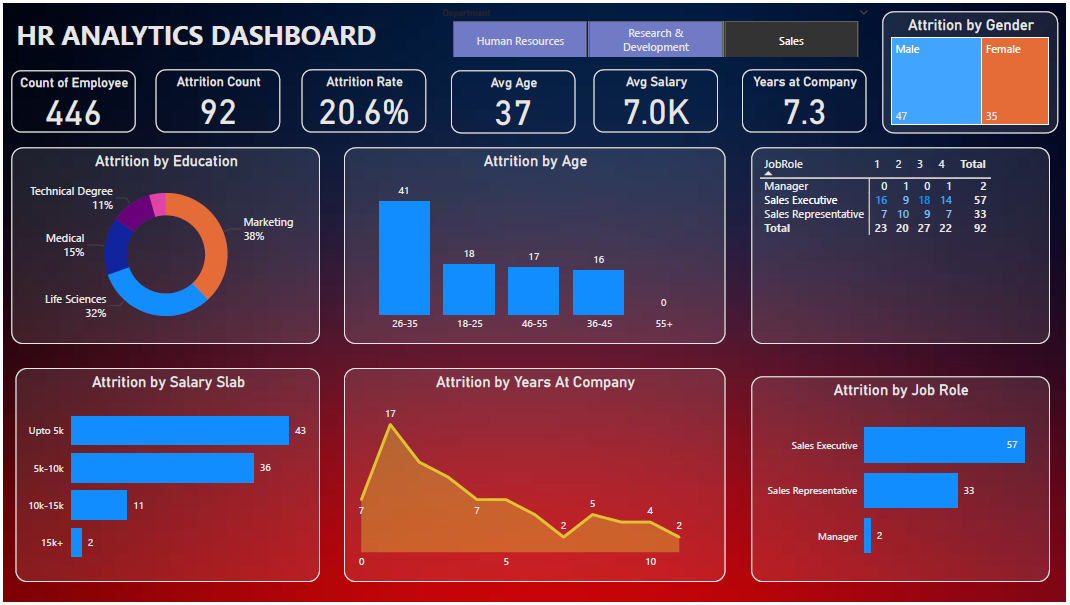

The page's visual inventory and layout, read from the dashboard file:
{"tool":"powerbi","page":{"name":"Page 1","canvas":[1280,720],"ordinal":0},"visuals":[{"type":"textbox","box":[10,8.6,455.7,54.3],"z":0},{"type":"card","title":"Count of Employee","fields":{"Values":["CountNonNull(HR_Analytics.EmpID)"]},"box":[8.6,80.4,150,75],"z":1000},{"type":"card","title":"Avg Salary","fields":{"Values":["Avg(HR_Analytics.MonthlyIncome)"]},"box":[711.4,78.9,150,75.7],"z":2000},{"type":"card","title":"Avg Age","fields":{"Values":["Avg(HR_Analytics.Age)"]},"box":[538.6,80.4,150,75.7],"z":3000},{"type":"card","title":"Attrition Rate","fields":{"Values":["HR_Analytics.AttrtionRate"]},"box":[358.6,78.9,150,75.7],"z":4000},{"type":"card","title":"Attrition Count","fields":{"Values":["Sum(HR_Analytics.AttritionCount)"]},"box":[182.9,78.9,150,75.7],"z":5000},{"type":"card","title":"Years at Company","fields":{"Values":["Avg(HR_Analytics.YearsAtCompany)"]},"box":[890,78.9,150,75.7],"z":6000},{"type":"donutChart","title":"Attrition by Education","fields":{"Category":["HR_Analytics.EducationField"],"Y":["Sum(HR_Analytics.AttritionCount)"]},"box":[8.6,172.9,372.9,237.1],"z":7000},{"type":"columnChart","title":"Attrition by Age","fields":{"Category":["HR_Analytics.AgeGroup"],"Y":["Sum(HR_Analytics.AttritionCount)"]},"box":[410,172.9,460,237.1],"z":8000},{"type":"pivotTable","fields":{"Rows":["HR_Analytics.JobRole"],"Columns":["HR_Analytics.JobSatisfaction"],"Values":["Sum(HR_Analytics.AttritionCount)"]},"box":[901.4,172.9,360,237.1],"z":9000},{"type":"barChart","title":"Attrition by Salary Slab","fields":{"Category":["HR_Analytics.SalarySlab"],"Y":["Sum(HR_Analytics.AttritionCount)"]},"box":[14.3,438.6,367.1,258.6],"z":10000},{"type":"barChart","title":"Attrition by Job Role","fields":{"Y":["Sum(HR_Analytics.AttritionCount)"],"Category":["HR_Analytics.JobRole"]},"box":[901.4,448.6,360,248.6],"z":11000},{"type":"areaChart","title":"Attrition by Years At Company","fields":{"Category":["HR_Analytics.YearsAtCompany"],"Y":["Sum(HR_Analytics.AttritionCount)"]},"box":[410,438.6,460,258.6],"z":12000},{"type":"treemap","title":"Attrition by Gender","fields":{"Group":["HR_Analytics.Gender"],"Values":["Sum(HR_Analytics.AttritionCount)"]},"box":[1058.8,8.8,212.5,147.5],"z":13000},{"type":"slicer","fields":{"Values":["HR_Analytics.Department"]},"box":[515.7,0,538.6,64.3],"z":14000}]}

Visuals, with their boxes in screenshot pixels (x1, y1, x2, y2), scaled from the page's 1280x720 canvas onto the 1070x605 screenshot:
textbox: crop(8, 7, 389, 53)
"Count of Employee" card: crop(7, 68, 133, 131)
"Avg Salary" card: crop(595, 66, 720, 130)
"Avg Age" card: crop(450, 68, 576, 131)
"Attrition Rate" card: crop(300, 66, 425, 130)
"Attrition Count" card: crop(153, 66, 278, 130)
"Years at Company" card: crop(744, 66, 869, 130)
"Attrition by Education" donutChart: crop(7, 145, 319, 345)
"Attrition by Age" columnChart: crop(343, 145, 727, 345)
pivotTable - HR_Analytics.JobRole x HR_Analytics.JobSatisfaction: crop(754, 145, 1054, 345)
"Attrition by Salary Slab" barChart: crop(12, 369, 319, 586)
"Attrition by Job Role" barChart: crop(754, 377, 1054, 586)
"Attrition by Years At Company" areaChart: crop(343, 369, 727, 586)
"Attrition by Gender" treemap: crop(885, 7, 1063, 131)
slicer - HR_Analytics.Department: crop(431, 0, 881, 54)
